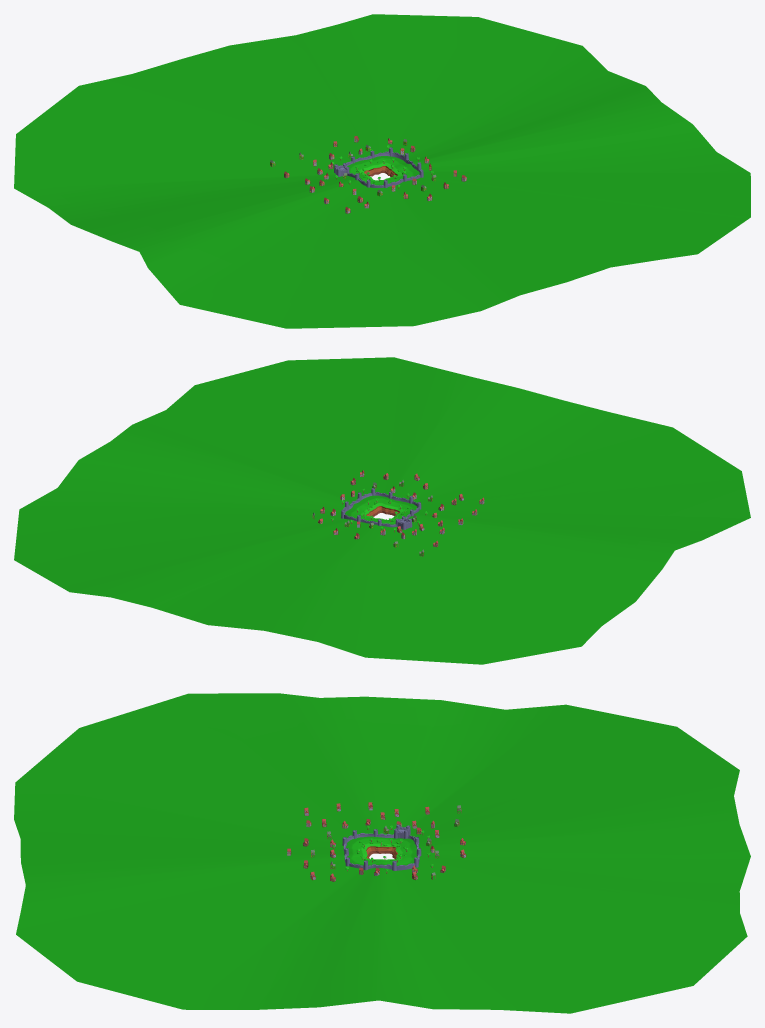
File: enviroment.fbx
3 views of the same model, one above another, from view 1: azimuth 30°, elevation 25°; view 2: azimuth 150°, elevation 25°; view 3: azimuth 270°, elevation 25° (orthographic). The views are drawn at different scales.
Parts seen in each view (by area): view 1: palm:Enviroment; view 2: palm:Enviroment; view 3: palm:Enviroment.
Part boxes in pixels (<box>): palm:Enviroment: <box>14,14,750,328</box>; palm:Enviroment: <box>14,357,750,664</box>; palm:Enviroment: <box>14,693,750,1013</box>.
Bounding box in the file's own units: 3711 × 99.19 × 3683.
